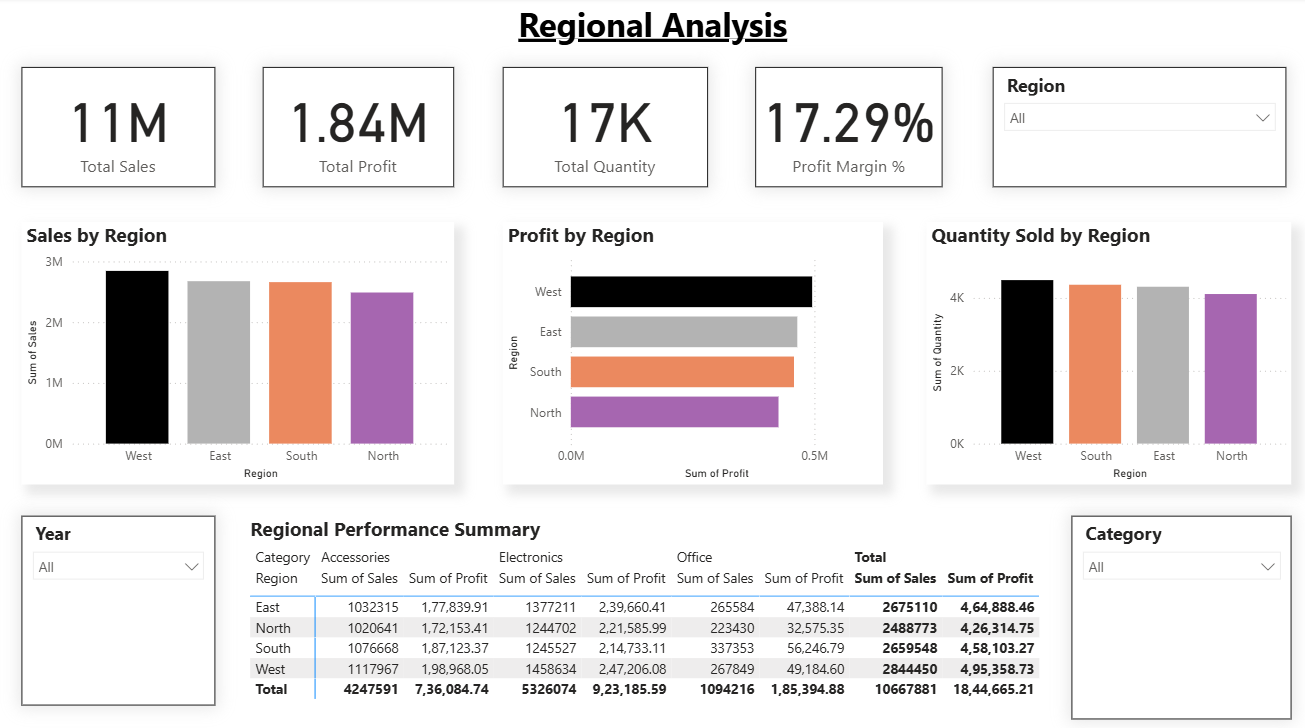

The page's visual inventory and layout, read from the dashboard file:
{"tool":"powerbi","page":{"name":"Regional Analytics","canvas":[1280,720],"ordinal":2},"visuals":[{"type":"textbox","box":[9.8,0,1249.7,100.3],"z":0},{"type":"textbox","box":[14.7,0,1249.7,55],"z":1000},{"type":"card","fields":{"Values":["ecommerce_sales_cleaned.Total Sales"]},"box":[22,68.5,189.5,117.4],"z":2000},{"type":"card","fields":{"Values":["ecommerce_sales_cleaned.Total Profit"]},"box":[258,68.5,187.1,117.4],"z":3000},{"type":"card","fields":{"Values":["ecommerce_sales_cleaned.Total Quantity"]},"box":[492.8,68.5,200.5,117.4],"z":4000},{"type":"card","fields":{"Values":["ecommerce_sales_cleaned.Profit Margin %"]},"box":[739.8,68.5,183.4,117.4],"z":5000},{"type":"slicer","fields":{"Values":["ecommerce_sales_cleaned.Region"]},"box":[972.2,68.5,287.4,117.4],"z":6000},{"type":"clusteredColumnChart","title":"Sales by Region","fields":{"Category":["ecommerce_sales_cleaned.Region"],"Y":["Sum(ecommerce_sales_cleaned.Sales)"]},"box":[22,220.1,423.1,256.8],"z":7000},{"type":"clusteredBarChart","title":"Profit by Region","fields":{"Category":["ecommerce_sales_cleaned.Region"],"Y":["Sum(ecommerce_sales_cleaned.Profit)"]},"box":[492.8,220.1,371.7,256.8],"z":8000},{"type":"clusteredColumnChart","title":"Quantity Sold by Region","fields":{"Category":["ecommerce_sales_cleaned.Region"],"Y":["Sum(ecommerce_sales_cleaned.Quantity)"]},"box":[907.3,220.1,357.1,256.8],"z":9000},{"type":"pivotTable","title":"Regional Performance Summary","fields":{"Rows":["ecommerce_sales_cleaned.Region"],"Columns":["ecommerce_sales_cleaned.Category"],"Values":["Sum(ecommerce_sales_cleaned.Sales)","Sum(ecommerce_sales_cleaned.Profit)"]},"box":[240.9,507.5,796.1,185.9],"z":10000},{"type":"slicer","fields":{"Values":["ecommerce_sales_cleaned.Year"]},"box":[22,507.5,189.5,185.9],"z":11000},{"type":"slicer","fields":{"Values":["ecommerce_sales_cleaned.Category"]},"box":[1049.2,507.5,215.2,199.3],"z":12000}]}

Visuals, with their boxes in screenshot pixels (x1, y1, x2, y2), scaled from the page's 1280x720 canvas onto the 1305x728 screenshot:
textbox: [x1=10, y1=0, x2=1284, y2=101]
textbox: [x1=15, y1=0, x2=1289, y2=56]
card - ecommerce_sales_cleaned.Total Sales: [x1=22, y1=69, x2=216, y2=188]
card - ecommerce_sales_cleaned.Total Profit: [x1=263, y1=69, x2=454, y2=188]
card - ecommerce_sales_cleaned.Total Quantity: [x1=502, y1=69, x2=707, y2=188]
card - ecommerce_sales_cleaned.Profit Margin %: [x1=754, y1=69, x2=941, y2=188]
slicer - ecommerce_sales_cleaned.Region: [x1=991, y1=69, x2=1284, y2=188]
"Sales by Region" clusteredColumnChart: [x1=22, y1=223, x2=454, y2=482]
"Profit by Region" clusteredBarChart: [x1=502, y1=223, x2=881, y2=482]
"Quantity Sold by Region" clusteredColumnChart: [x1=925, y1=223, x2=1289, y2=482]
"Regional Performance Summary" pivotTable: [x1=246, y1=513, x2=1057, y2=701]
slicer - ecommerce_sales_cleaned.Year: [x1=22, y1=513, x2=216, y2=701]
slicer - ecommerce_sales_cleaned.Category: [x1=1070, y1=513, x2=1289, y2=715]
